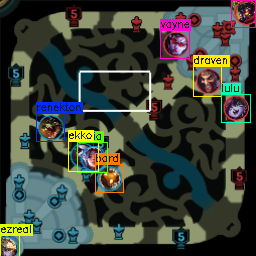bard: (98, 166, 121, 190)
draven: (195, 69, 221, 93)
ekko: (70, 143, 96, 168)
ezreal: (1, 236, 17, 256)
irelia: (81, 146, 105, 171)
lulu: (222, 95, 249, 120)
renekton: (38, 115, 64, 140)
vayne: (163, 31, 188, 56)
viktor: (234, 1, 255, 26)
